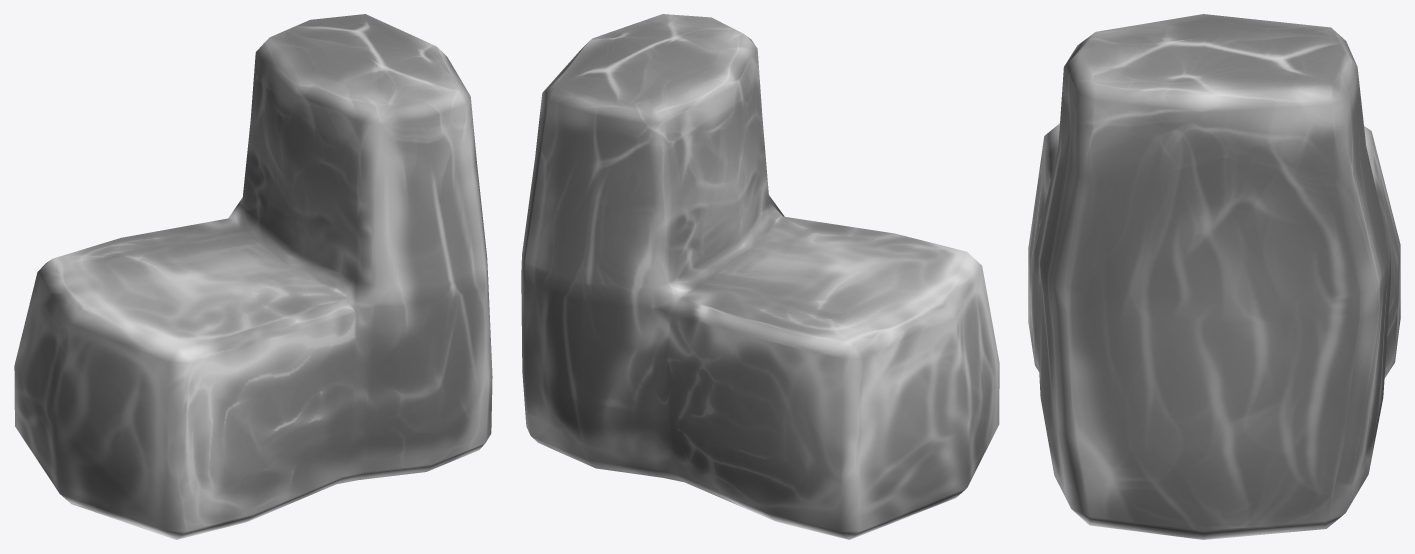
Rendered from roca2.fbx.
3 views of the same model, side by side, from view 1: azimuth 30°, elevation 25°; view 2: azimuth 150°, elevation 25°; view 3: azimuth 270°, elevation 25° (orthographic). The views are drawn at different scales.
Visible parts, largest first — view 1: roca2; view 2: roca2; view 3: roca2.
Part boxes in pixels (x1,y1,x2,y2): roca2: (14,14,492,539); roca2: (521,14,999,539); roca2: (1028,14,1400,539).
Bounding box in the file's own units: 12.43 × 11.45 × 8.39.
